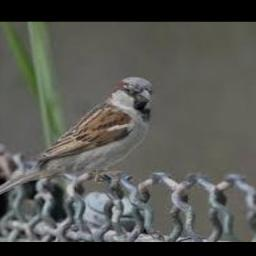Sparrow: (0, 76, 155, 203)
